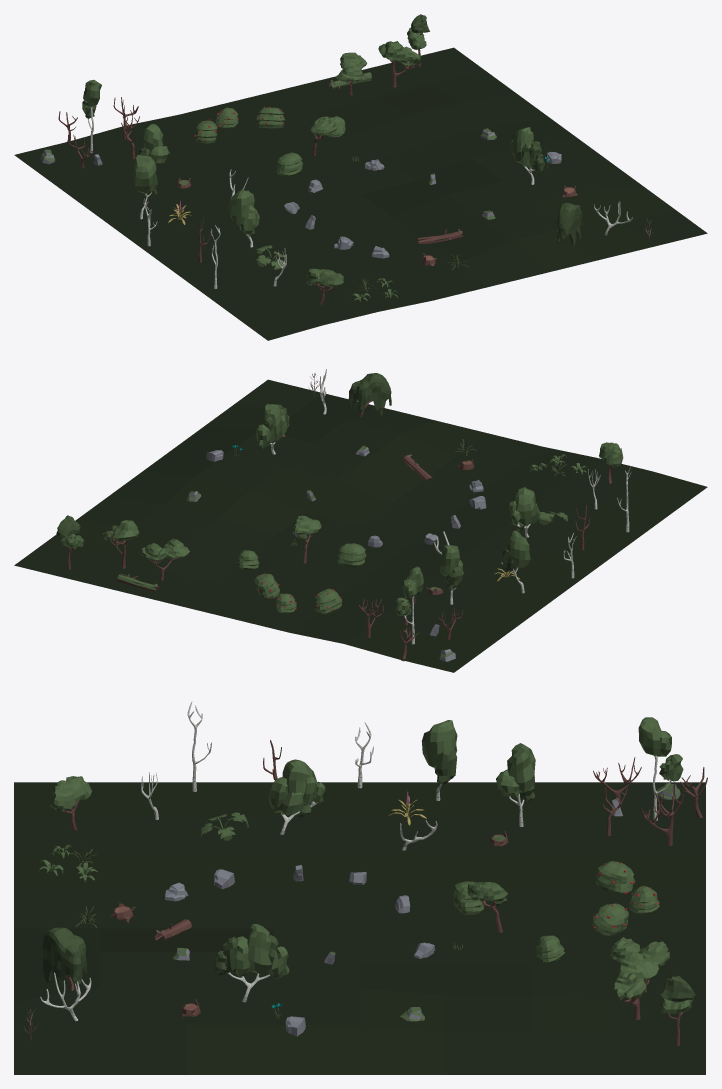
File: MapTutorial_v2.glb
3 renders of one model, top to bottom at view 1: azimuth 30°, elevation 25°; view 2: azimuth 150°, elevation 25°; view 3: azimuth 270°, elevation 25°, orthographic. The views are drawn at different scales.
Parts seen in each view (by area): view 1: Floor, BirchTree_4_Cube.070, BirchTree_1_Cube.001, BirchTree_2_Cube.064, Willow_1_Cube.010, CommonTree_2_Cube.036, BirchTree_3_Cube.065, CommonTree_1_Cube.049, CommonTree_5_Cube.014, BirchTree_5_Cube.072, CommonTree_3_Cube.031, BushBerries_1_Cube.001 (+1 smaller); view 2: Floor, Willow_1_Cube.010, BirchTree_4_Cube.070, BirchTree_1_Cube.001, BirchTree_2_Cube.064, BirchTree_5_Cube.072, BirchTree_3_Cube.065, CommonTree_1_Cube.049, CommonTree_2_Cube.036, CommonTree_3_Cube.031, Bush_1_Cube.045, CommonTree_4_Cube.001 (+3 smaller); view 3: Floor, BirchTree_4_Cube.070, BirchTree_1_Cube.001, Willow_1_Cube.010, BirchTree_3_Cube.065, BirchTree_2_Cube.064, BirchTree_5_Cube.072, CommonTree_2_Cube.036, CommonTree_3_Cube.031, CommonTree_5_Cube.014, BushBerries_1_Cube.044, BushBerries_1_Cube.001 (+6 smaller).
Part boxes in pixels (bbox=[...]): Floor: bbox=[14, 47, 707, 340]; BirchTree_4_Cube.070: bbox=[509, 127, 545, 184]; BirchTree_1_Cube.001: bbox=[228, 190, 259, 247]; BirchTree_2_Cube.064: bbox=[133, 155, 157, 219]; Willow_1_Cube.010: bbox=[557, 202, 582, 246]; CommonTree_2_Cube.036: bbox=[378, 41, 421, 87]; BirchTree_3_Cube.065: bbox=[139, 124, 169, 163]; CommonTree_1_Cube.049: bbox=[335, 52, 367, 95]; CommonTree_5_Cube.014: bbox=[306, 268, 343, 304]; BirchTree_5_Cube.072: bbox=[82, 80, 101, 152]; CommonTree_3_Cube.031: bbox=[407, 14, 429, 66]; BushBerries_1_Cube.001: bbox=[256, 106, 284, 128]; Floor: bbox=[14, 379, 707, 672]; Willow_1_Cube.010: bbox=[348, 373, 391, 416]; BirchTree_4_Cube.070: bbox=[256, 404, 289, 454]; BirchTree_1_Cube.001: bbox=[509, 487, 539, 537]; BirchTree_2_Cube.064: bbox=[502, 530, 530, 593]; BirchTree_5_Cube.072: bbox=[396, 566, 423, 644]; BirchTree_3_Cube.065: bbox=[439, 545, 464, 604]; CommonTree_1_Cube.049: bbox=[139, 538, 190, 580]; CommonTree_2_Cube.036: bbox=[102, 520, 139, 568]; CommonTree_3_Cube.031: bbox=[56, 515, 84, 569]; Bush_1_Cube.045: bbox=[337, 543, 366, 567]; CommonTree_4_Cube.001: bbox=[293, 515, 321, 563]; Floor: bbox=[14, 782, 705, 1074]; BirchTree_4_Cube.070: bbox=[214, 924, 289, 1002]; BirchTree_1_Cube.001: bbox=[268, 759, 325, 834]; Willow_1_Cube.010: bbox=[40, 927, 87, 990]; BirchTree_3_Cube.065: bbox=[496, 743, 535, 826]; BirchTree_2_Cube.064: bbox=[421, 720, 457, 800]; BirchTree_5_Cube.072: bbox=[638, 717, 683, 820]; CommonTree_2_Cube.036: bbox=[614, 951, 658, 1019]; CommonTree_3_Cube.031: bbox=[660, 975, 695, 1045]; CommonTree_5_Cube.014: bbox=[50, 776, 92, 830]; BushBerries_1_Cube.044: bbox=[595, 861, 635, 894]; BushBerries_1_Cube.001: bbox=[592, 903, 628, 936].
Size of the model in its own units: 30 by 5.24 by 30.09.
